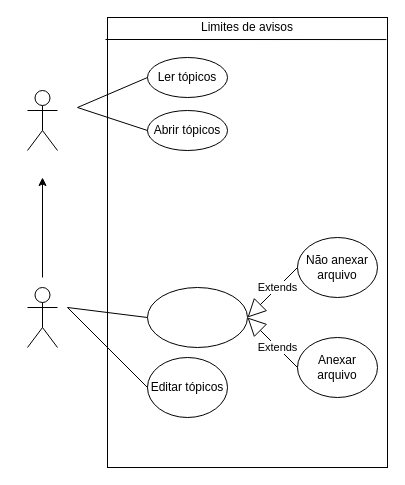
The diagram is 405 pixels wide and 485 high, and some of its shapes have lost their labels. Each missing label, with the centre of its shape:
"Aluno" goes at point (42, 120).
"Professor" goes at point (42, 317).
"Publicar tópicos novos" goes at point (197, 317).
